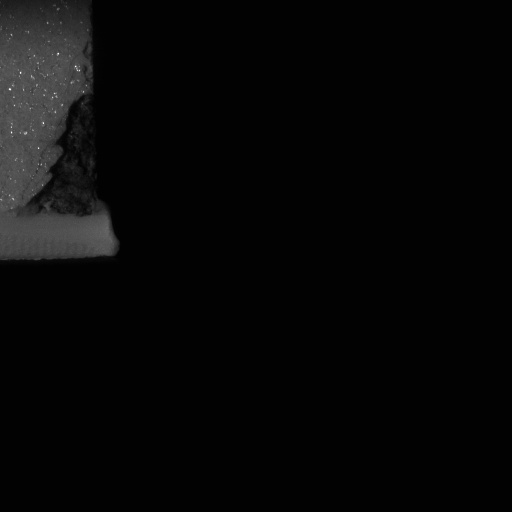bengque: (18, 94, 109, 222)
